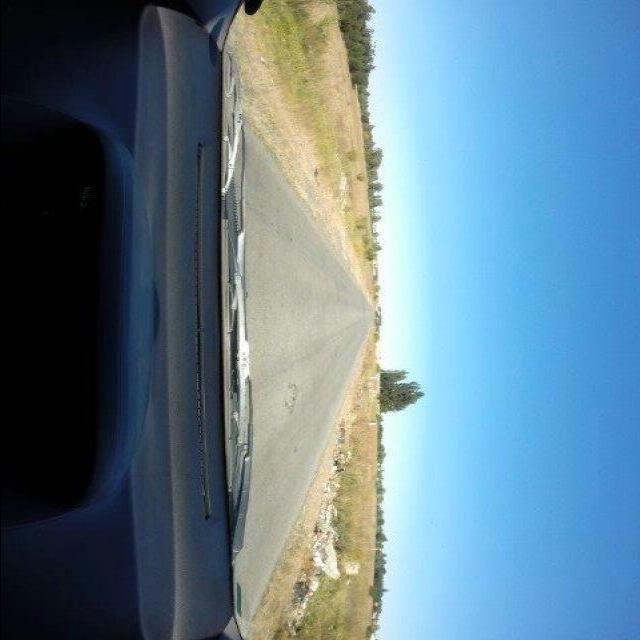lubang: (282, 382, 304, 416)
